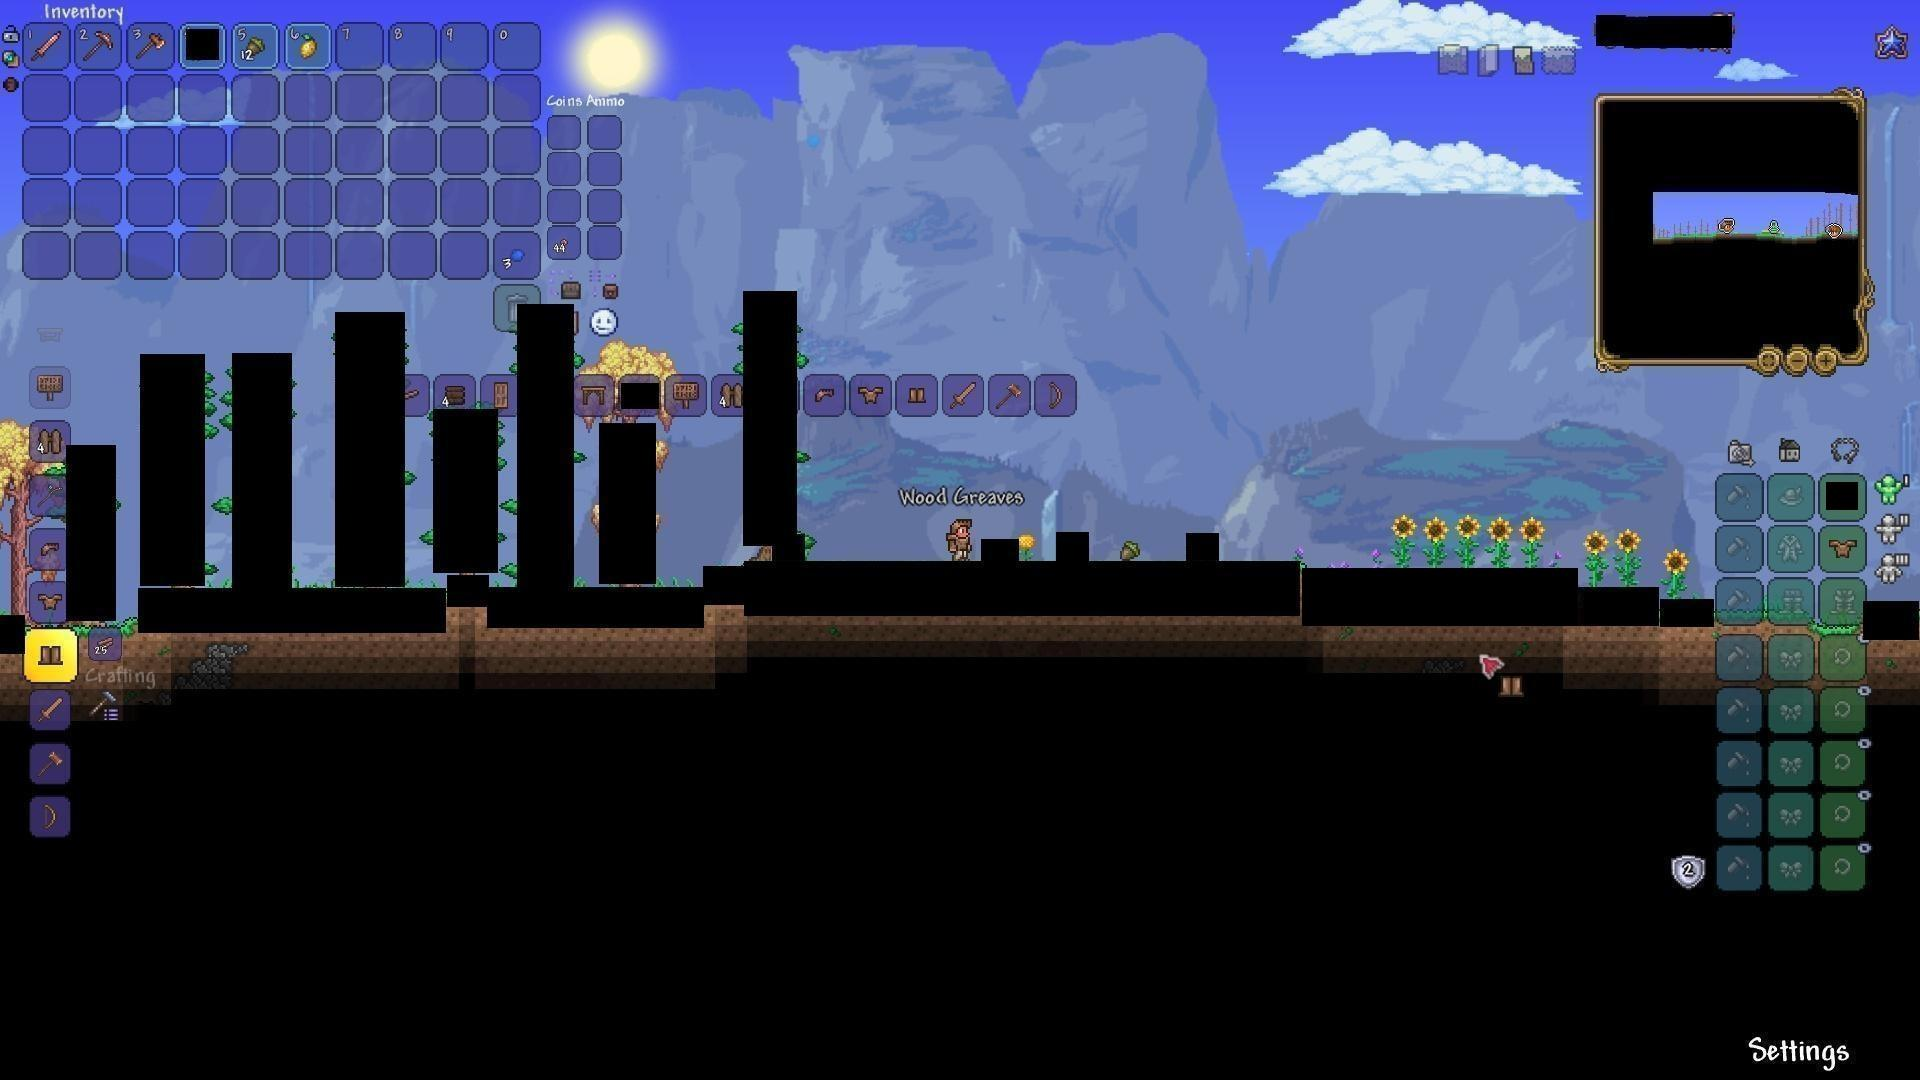breastplate: (1829, 535, 1859, 556), (853, 382, 884, 404), (36, 588, 63, 611)
helmet: (808, 378, 840, 406), (36, 535, 61, 559)
legs: (36, 640, 65, 669), (905, 380, 928, 409)
tree: (0, 411, 36, 611)
wood: (91, 629, 123, 659)
